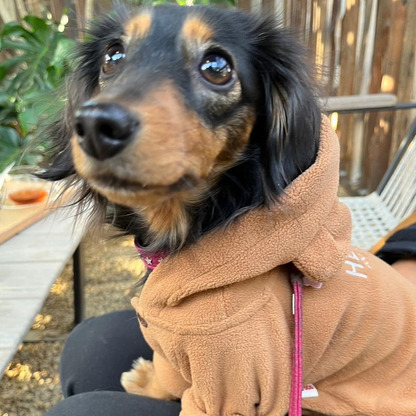dachshund: (76, 14, 390, 405)
